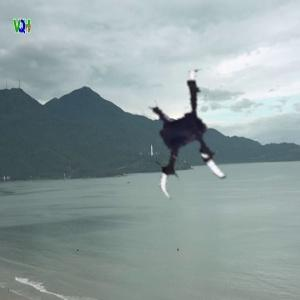drone: (126, 71, 263, 208)
